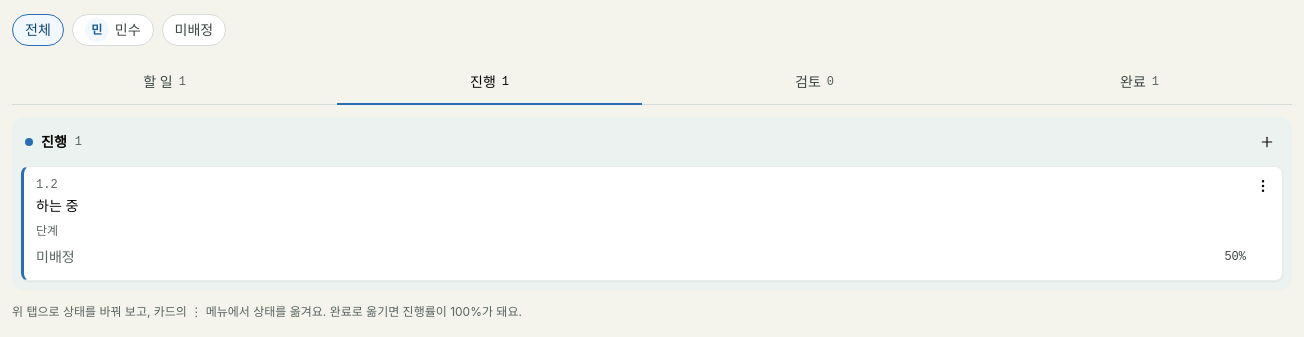
칸반 › 폰(767 이하) › 상태 탭(개수 표시)으로 한 칸씩만 보이고, 카드가 있는 첫 상태(진행)가 먼저 열린다
The image size is (1304, 337).
Check: the text "하는 중" is shown, box [36,197,78,214]
Check: the text "할 작업" is not shown
Click the tab "할 일 1": {"x": 164, "y": 82} [12,60,317,104]
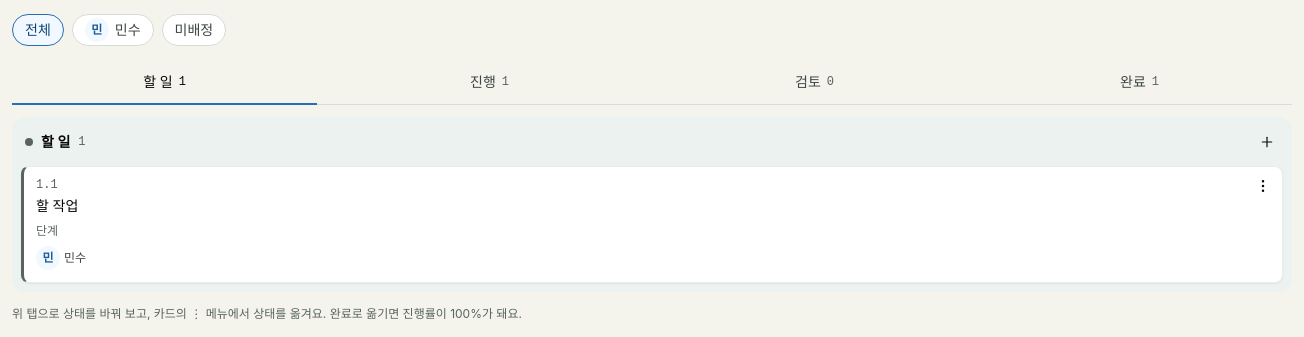
Check: the text "할 작업" is shown, box [36,197,78,214]
Check: the button "하는 중" is gone
